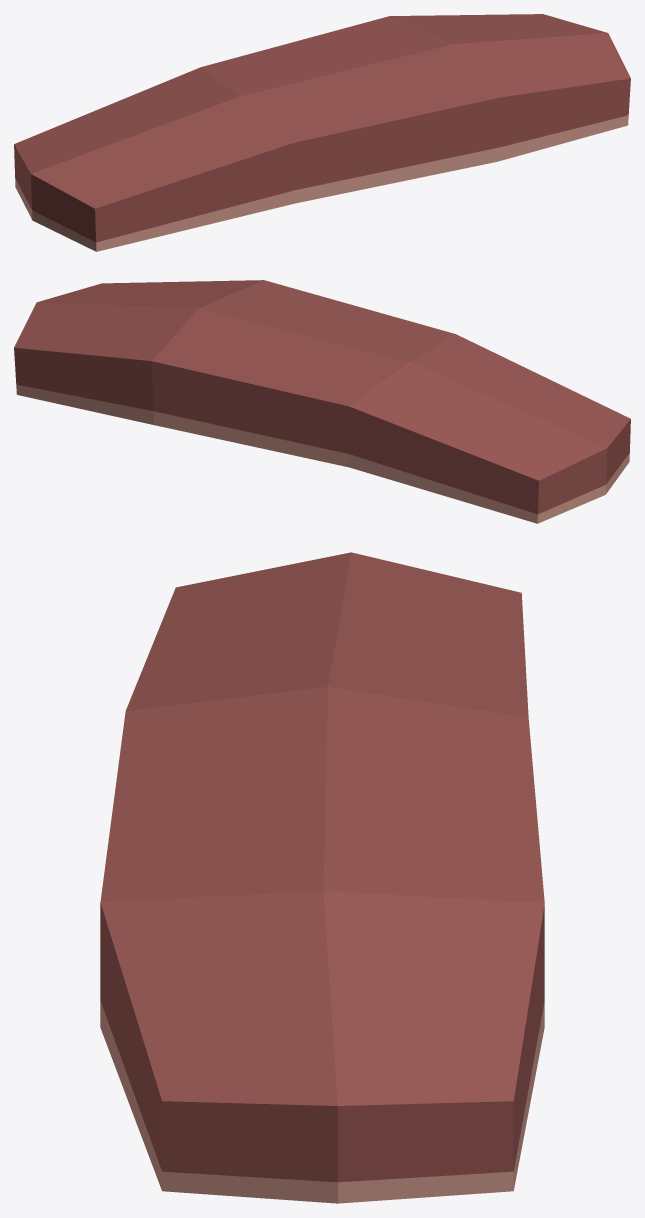
Rendered from porkRibNoBone.fbx.
3 renders of one model, top to bottom at view 1: azimuth 30°, elevation 25°; view 2: azimuth 150°, elevation 25°; view 3: azimuth 270°, elevation 25°, orthographic. The views are drawn at different scales.
Parts seen in each view (by area): view 1: porkRibNoBone; view 2: porkRibNoBone; view 3: porkRibNoBone.
Part boxes in pixels (box(x1,y1,x2,y2)): porkRibNoBone: box(14, 14, 630, 251); porkRibNoBone: box(14, 280, 630, 523); porkRibNoBone: box(100, 552, 544, 1203).
Bounding box in the file's own units: 51.26 × 7.22 × 17.19.
1 material, 1 textured.
